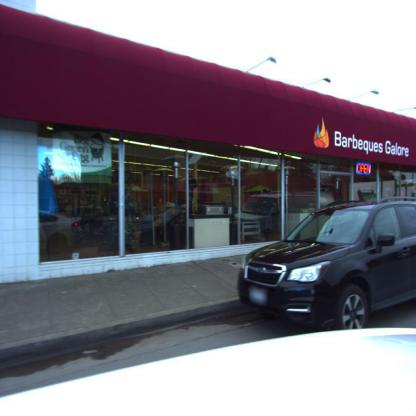car: (238, 196, 415, 331)
